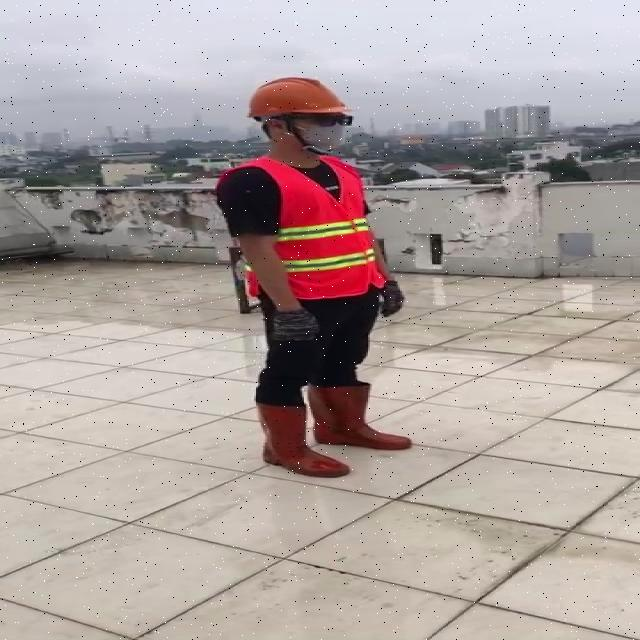Hard_hat: (238, 71, 357, 128)
Vest: (265, 152, 372, 300)
